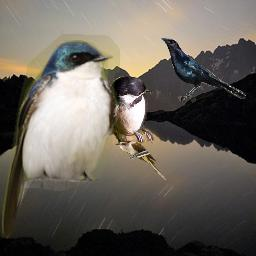Crow: (161, 38, 246, 103)
Cuckoo: (115, 141, 167, 181)
Swallow: (2, 33, 120, 239), (107, 74, 155, 146)
